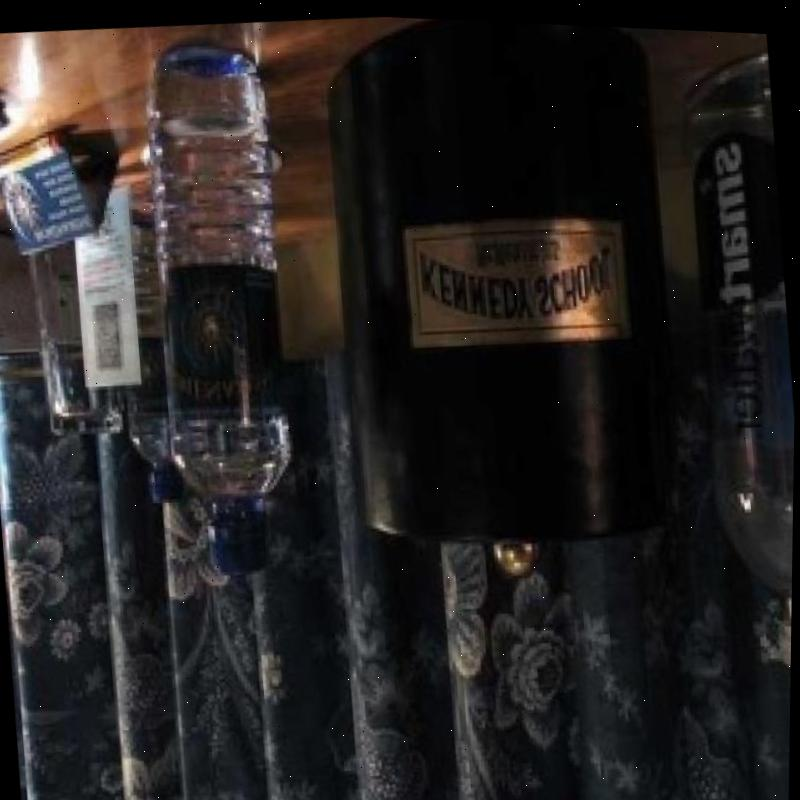botella: (141, 38, 311, 576), (113, 198, 180, 506)
